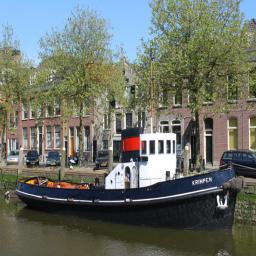tugboat: (14, 125, 248, 237)
